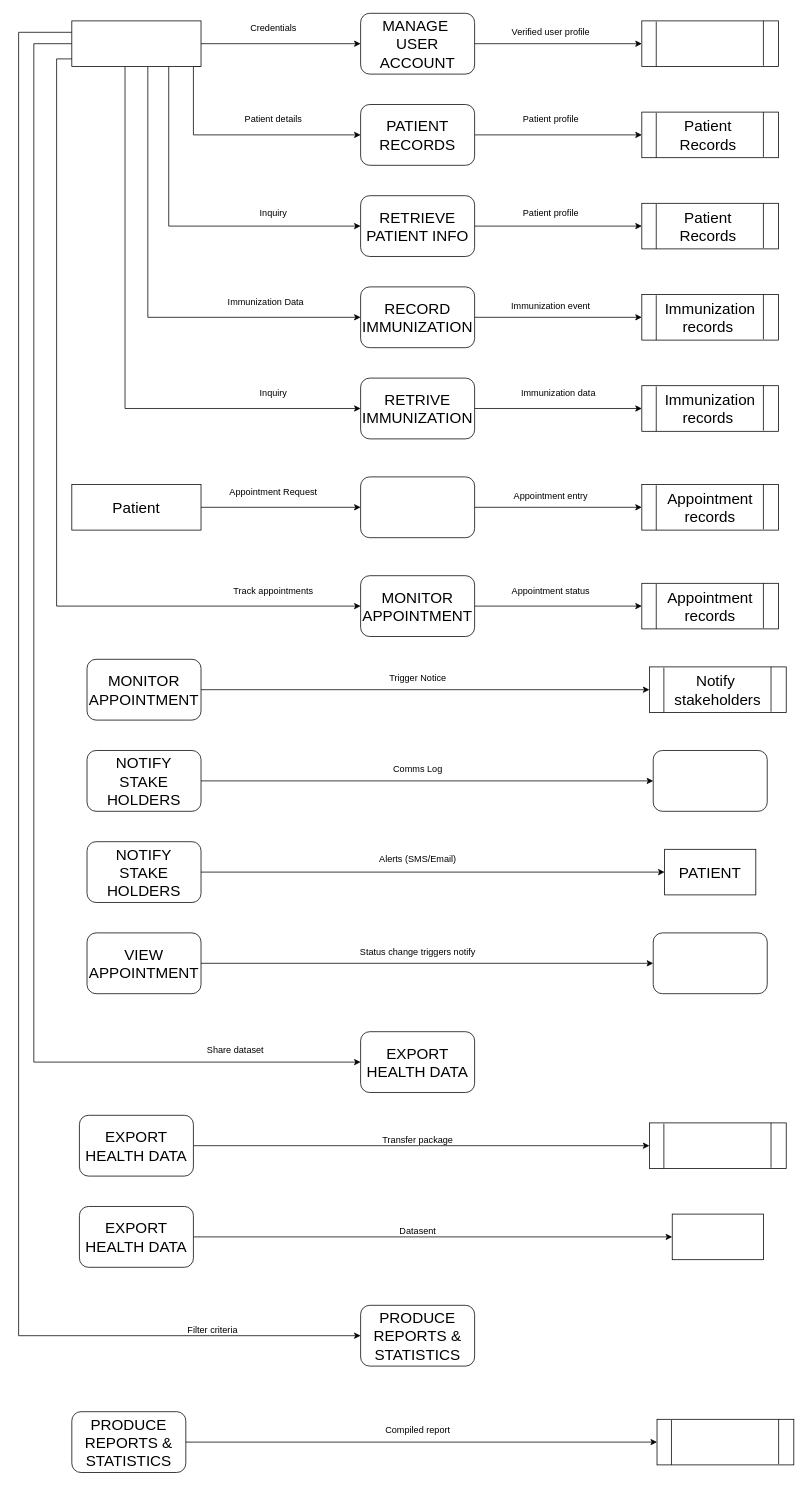
The diagram is 807 pixels wide and 1486 high, and some of its shapes have lost their labels. Here are the shapes that lost their labels. From the top down, the box of each, then its label:
(71, 20, 201, 66): Admin
(641, 20, 779, 66): User records
(360, 476, 475, 538): REQUEST APPOINTMENT
(652, 750, 767, 811): Notification History
(652, 932, 767, 994): SEND NOTIFICATION
(649, 1122, 786, 1168): Shared Export
(671, 1213, 763, 1260): MUNICIPAL
(656, 1419, 794, 1465): Analytics reports
